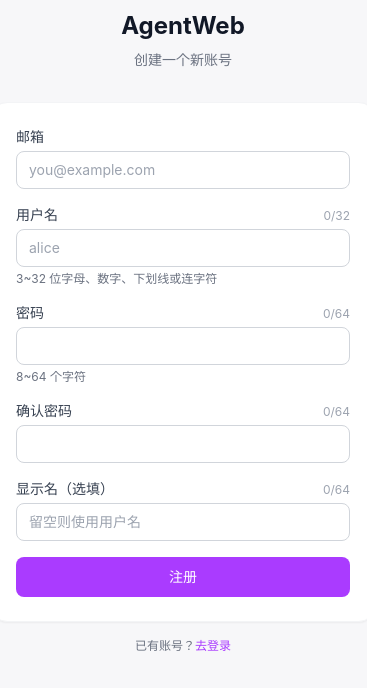
RegisterPage › 两次密码不一致时本地拦下，不发请求
The image size is (367, 688).
Type "bob@example.com" into the field labelled "邮箱".
click(183, 170); type("bob@example.com")  # box 16,151 -> 350,189
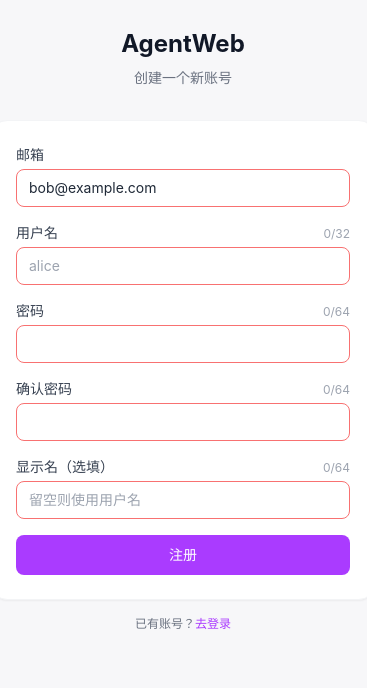
Type "bob" into the field labelled "用户名".
click(183, 266); type("bob")  # box 16,247 -> 350,285
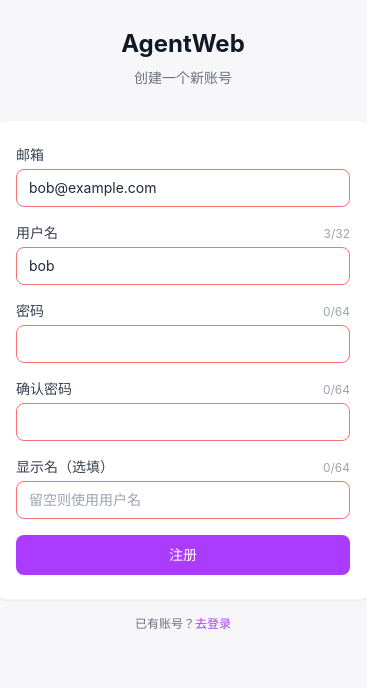
Type "secret123" into the password field labelled "密码".
click(183, 344); type("secret123")  # box 16,325 -> 350,363
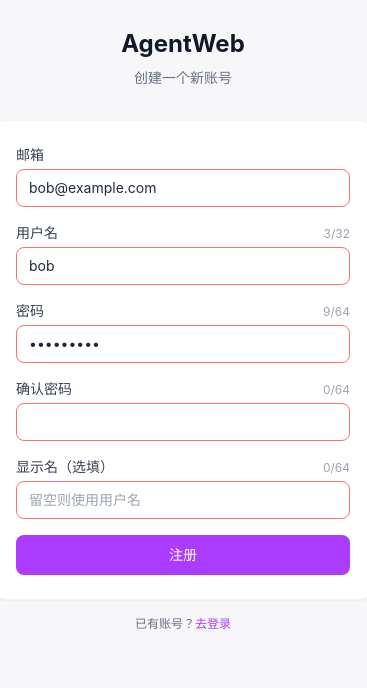
Type "secret124" into the password field labelled "确认密码".
click(183, 422); type("secret124")  # box 16,403 -> 350,441
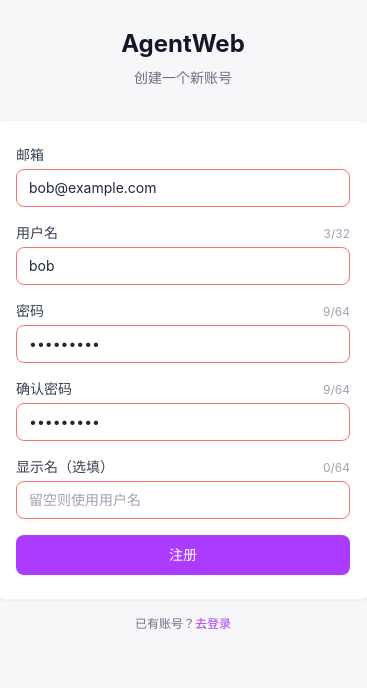
Submit the form "注册", box 16,145 -> 350,575
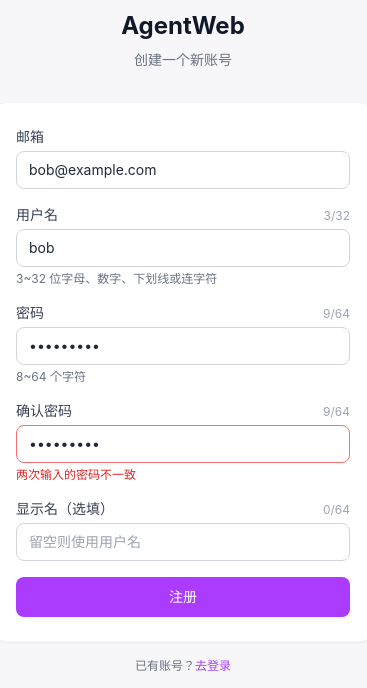
Expected: the text "两次输入的密码不一致" is shown, 16,467 -> 136,482
